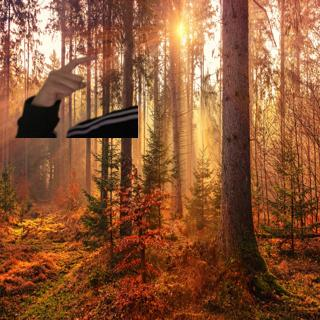WHY: (31, 51, 101, 109)
